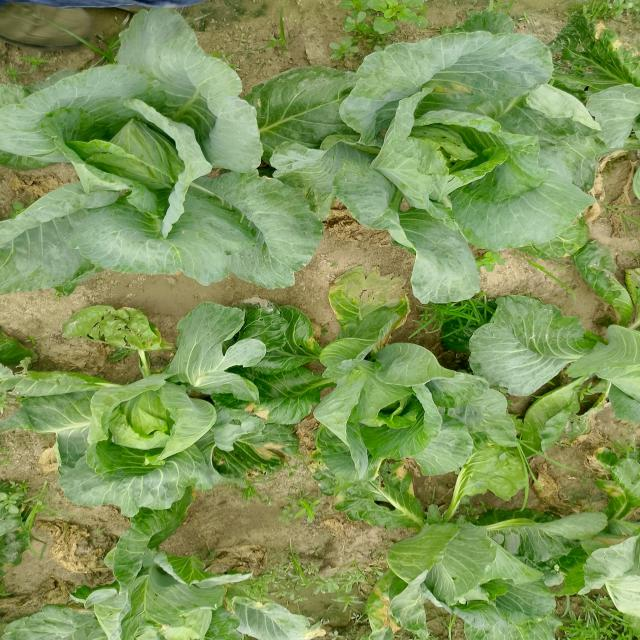Cabbage: (1, 49, 304, 316), (320, 41, 600, 290), (44, 296, 304, 517), (333, 495, 640, 640), (0, 525, 304, 640), (342, 318, 512, 508), (532, 282, 640, 437), (593, 478, 640, 640)
